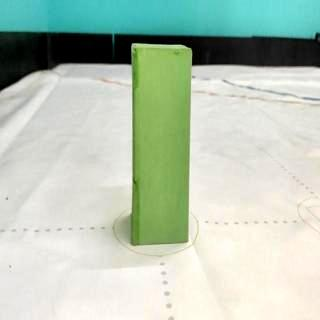greenbox: (130, 42, 192, 245)
